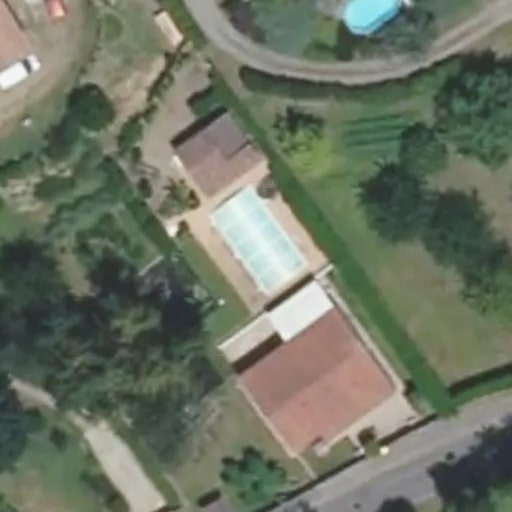pool: (210, 183, 308, 298), (342, 3, 412, 35)
